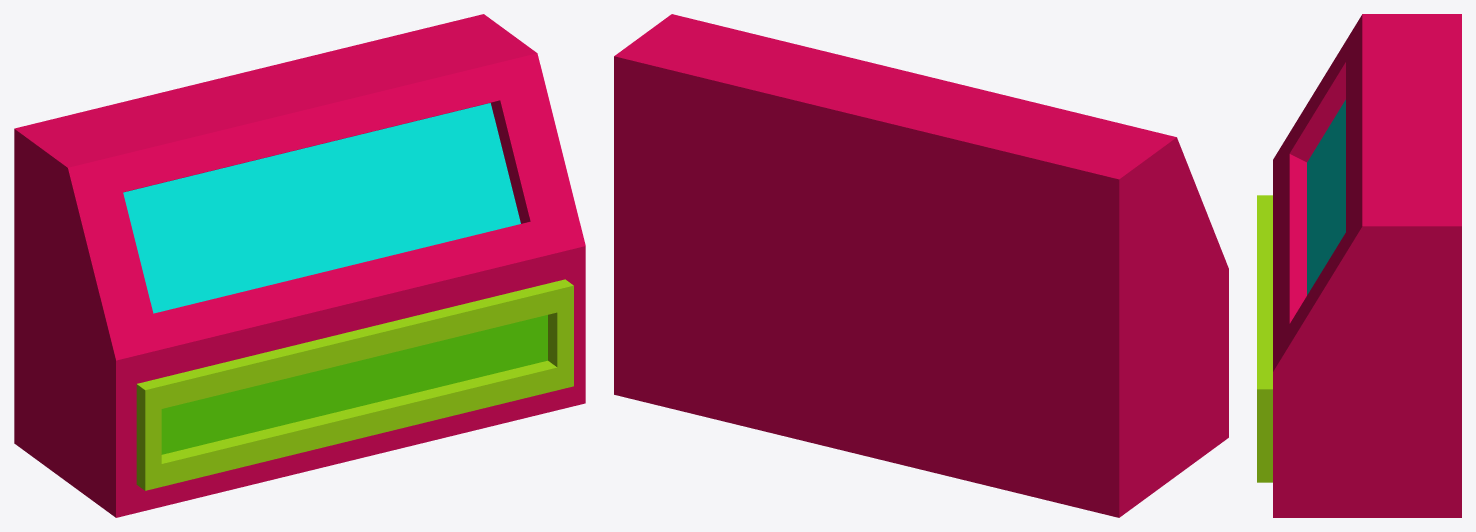
The model's file is mueble.fbx.
3 renders of one model, left to right at view 1: azimuth 30°, elevation 25°; view 2: azimuth 150°, elevation 25°; view 3: azimuth 270°, elevation 25°, orthographic. The views are drawn at different scales.
Parts seen in each view (by area): view 1: Cube; view 2: Cube; view 3: Cube.
Boxes of the visible parts, x1,y1,x2,y2 form: Cube: (14, 14, 585, 517); Cube: (614, 14, 1228, 517); Cube: (1257, 14, 1461, 517).
Bounding box in the file's own units: 2.17 × 5.32 × 3.41.
